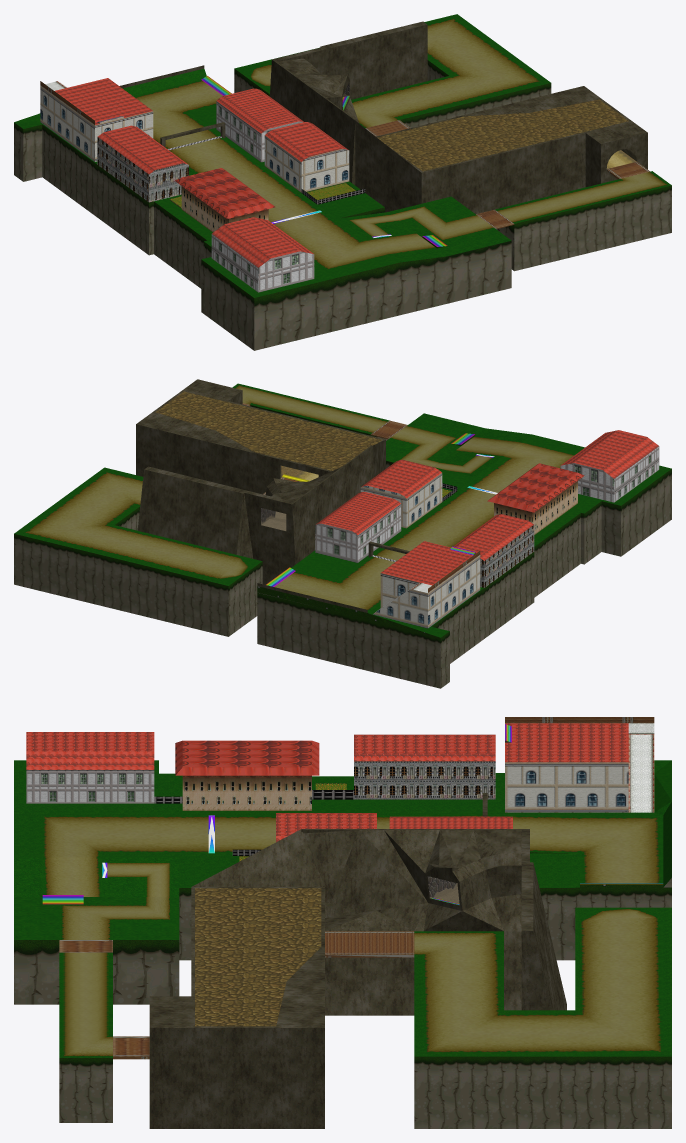
3 views of the same model, one above another, from view 1: azimuth 30°, elevation 25°; view 2: azimuth 150°, elevation 25°; view 3: azimuth 270°, elevation 25° (orthographic). The views are drawn at different scales.
Parts seen in each view (by area): view 1: CliffVillage_v2_2_Main-wall.001, CliffVillage_v2_2_Main-caverockwall.001, CliffVillage_v2_2_Main-mainroad.001, CliffVillage_v2_2_Main-grassoffroad.001, CliffVillage_v2_2_Main-roofroad.001, CliffVillage_v2_2_Main-rockwall.001, CliffVillage_v2_2_Main-housetexture.001, CliffVillage_v2_2_Main-housewall.001, CliffVillage_v2_2_Main-roof.001, CliffVillage_v2_2_Main-house_wall.001, CliffVillage_v2_2_Main-house.001, CliffVillage_v2_2_Main-Flowerrrrrr.001; view 2: CliffVillage_v2_2_Main-wall.001, CliffVillage_v2_2_Main-caverockwall.001, CliffVillage_v2_2_Main-mainroad.001, CliffVillage_v2_2_Main-roofroad.001, CliffVillage_v2_2_Main-grassoffroad.001, CliffVillage_v2_2_Main-rockwall.001, CliffVillage_v2_2_Main-housetexture.001, CliffVillage_v2_2_Main-housewall.001, CliffVillage_v2_2_Main-roof.001, CliffVillage_v2_2_Main-house_wall.001, CliffVillage_v2_2_Main-house.001, CliffVillage_v2_2_Main-graswall.001; view 3: CliffVillage_v2_2_Main-caverockwall.001, CliffVillage_v2_2_Main-mainroad.001, CliffVillage_v2_2_Main-wall.001, CliffVillage_v2_2_Main-grassoffroad.001, CliffVillage_v2_2_Main-roofroad.001, CliffVillage_v2_2_Main-rockwall.001, CliffVillage_v2_2_Main-housetexture.001, CliffVillage_v2_2_Main-house_wall.001, CliffVillage_v2_2_Main-roof.001, CliffVillage_v2_2_Main-house.001, CliffVillage_v2_2_Main-housewall.001, CliffVillage_v2_2_Main-stoneroad.001 (+5 smaller).
Part boxes in pixels (bbox=[...]): CliffVillage_v2_2_Main-wall.001: bbox=[14, 60, 671, 350]; CliffVillage_v2_2_Main-caverockwall.001: bbox=[97, 21, 647, 213]; CliffVillage_v2_2_Main-mainroad.001: bbox=[133, 17, 668, 270]; CliffVillage_v2_2_Main-grassoffroad.001: bbox=[14, 14, 671, 297]; CliffVillage_v2_2_Main-roofroad.001: bbox=[55, 78, 347, 267]; CliffVillage_v2_2_Main-rockwall.001: bbox=[377, 99, 628, 171]; CliffVillage_v2_2_Main-housetexture.001: bbox=[40, 85, 349, 192]; CliffVillage_v2_2_Main-housewall.001: bbox=[211, 101, 314, 292]; CliffVillage_v2_2_Main-roof.001: bbox=[175, 168, 275, 218]; CliffVillage_v2_2_Main-house_wall.001: bbox=[97, 137, 188, 202]; CliffVillage_v2_2_Main-house.001: bbox=[181, 186, 268, 232]; CliffVillage_v2_2_Main-Flowerrrrrr.001: bbox=[170, 183, 355, 206]; CliffVillage_v2_2_Main-wall.001: bbox=[14, 405, 671, 688]; CliffVillage_v2_2_Main-caverockwall.001: bbox=[136, 379, 475, 612]; CliffVillage_v2_2_Main-mainroad.001: bbox=[21, 384, 574, 613]; CliffVillage_v2_2_Main-roofroad.001: bbox=[316, 430, 658, 585]; CliffVillage_v2_2_Main-grassoffroad.001: bbox=[14, 383, 671, 637]; CliffVillage_v2_2_Main-rockwall.001: bbox=[155, 391, 381, 470]; CliffVillage_v2_2_Main-housetexture.001: bbox=[360, 473, 480, 628]; CliffVillage_v2_2_Main-housewall.001: bbox=[315, 446, 659, 562]; CliffVillage_v2_2_Main-roof.001: bbox=[487, 463, 584, 512]; CliffVillage_v2_2_Main-house_wall.001: bbox=[480, 525, 534, 587]; CliffVillage_v2_2_Main-house.001: bbox=[494, 481, 577, 534]; CliffVillage_v2_2_Main-graswall.001: bbox=[257, 434, 475, 637]; CliffVillage_v2_2_Main-caverockwall.001: bbox=[149, 740, 566, 1128]; CliffVillage_v2_2_Main-mainroad.001: bbox=[42, 813, 663, 1056]; CliffVillage_v2_2_Main-wall.001: bbox=[14, 878, 671, 1128]; CliffVillage_v2_2_Main-grassoffroad.001: bbox=[14, 760, 671, 1057]; CliffVillage_v2_2_Main-roofroad.001: bbox=[26, 723, 628, 842]; CliffVillage_v2_2_Main-rockwall.001: bbox=[195, 888, 321, 1026]; CliffVillage_v2_2_Main-housetexture.001: bbox=[505, 762, 628, 812]; CliffVillage_v2_2_Main-house_wall.001: bbox=[354, 761, 495, 799]; CliffVillage_v2_2_Main-roof.001: bbox=[175, 740, 319, 775]; CliffVillage_v2_2_Main-house.001: bbox=[182, 775, 311, 810]; CliffVillage_v2_2_Main-housewall.001: bbox=[26, 770, 154, 803]; CliffVillage_v2_2_Main-stoneroad.001: bbox=[628, 723, 654, 812].
Bounding box in the file's own units: 48618 × 10814 × 45629.
34 materials, 33 textured.
